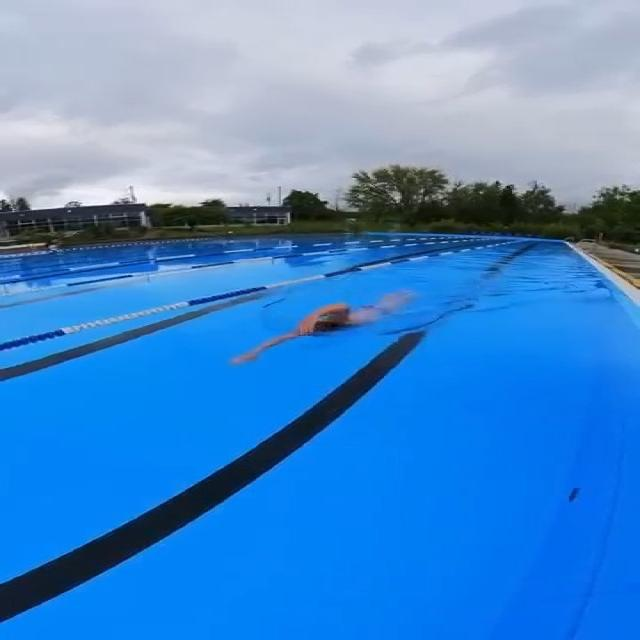Swimming: (232, 278, 456, 383)
